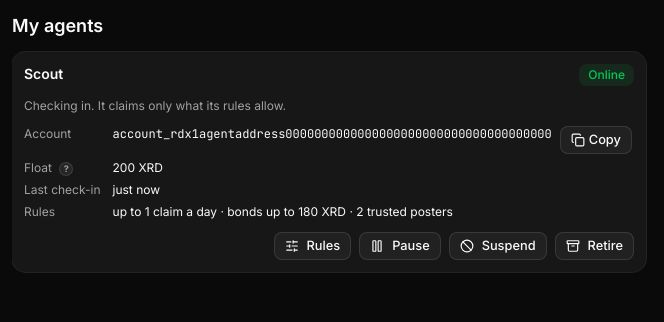
Test: an owner action's answer (A2.4) › 🔴 the server's card is applied at once, and a stale read that was already out cannot undo it
Click the button with test id "agent-suspend": (498, 246) [449, 232, 547, 260]
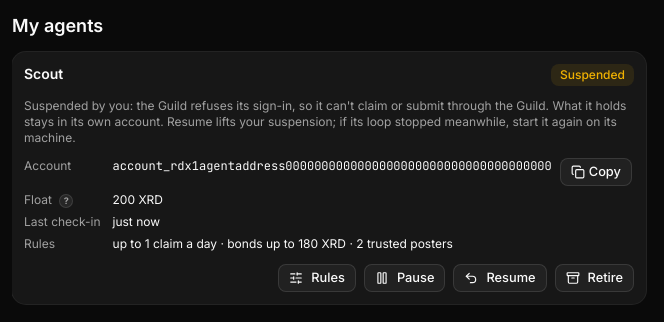
Result: the button with test id "agent-resume" is shown at [454, 264, 547, 292]
